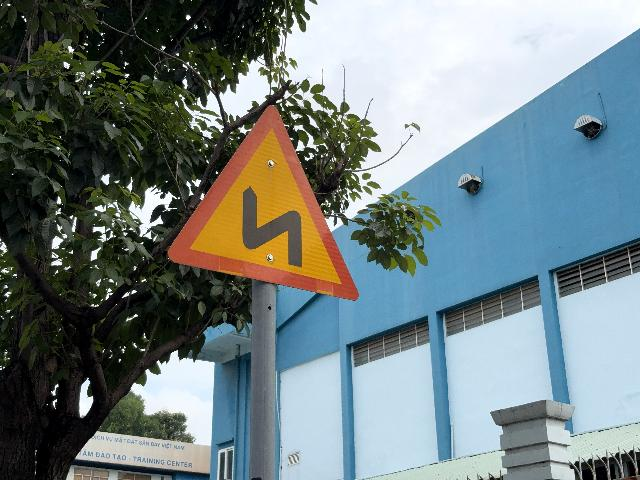nhieu-cho-ngoat-nguy-hiem-lien-tiep: (167, 104, 360, 302)
